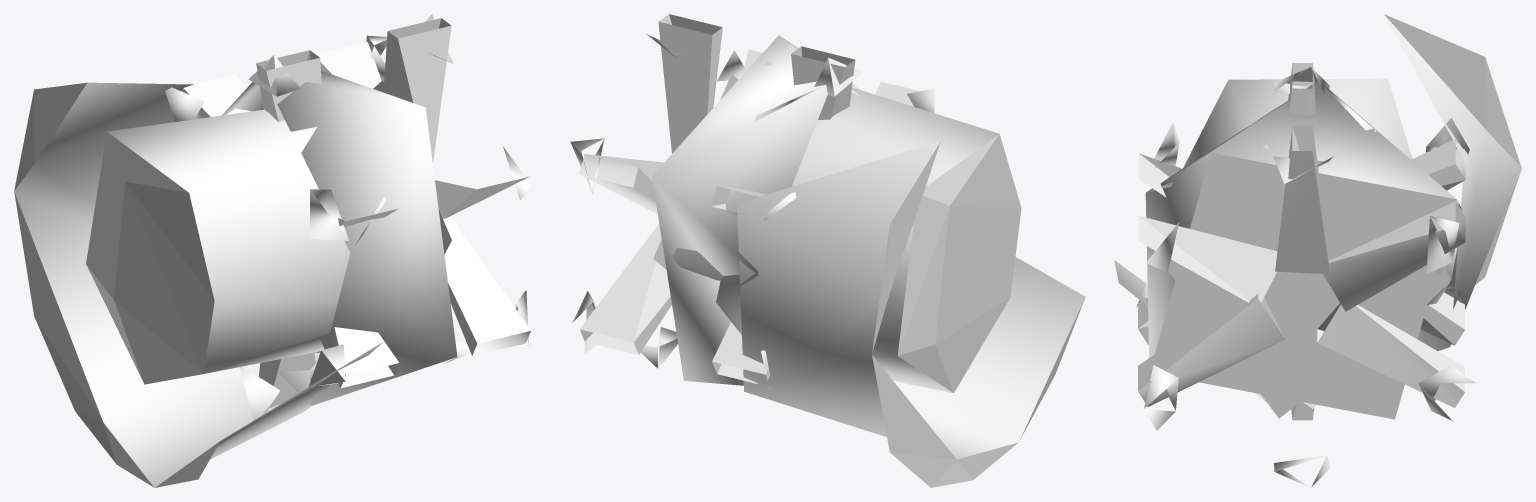
3 renders of one model, left to right at view 1: azimuth 30°, elevation 25°; view 2: azimuth 150°, elevation 25°; view 3: azimuth 270°, elevation 25°, orthographic. The views are drawn at different scales.
Size of the model in its own units: 0.631 by 0.665 by 0.6681.
Materials: 1 (1 with a texture image).
